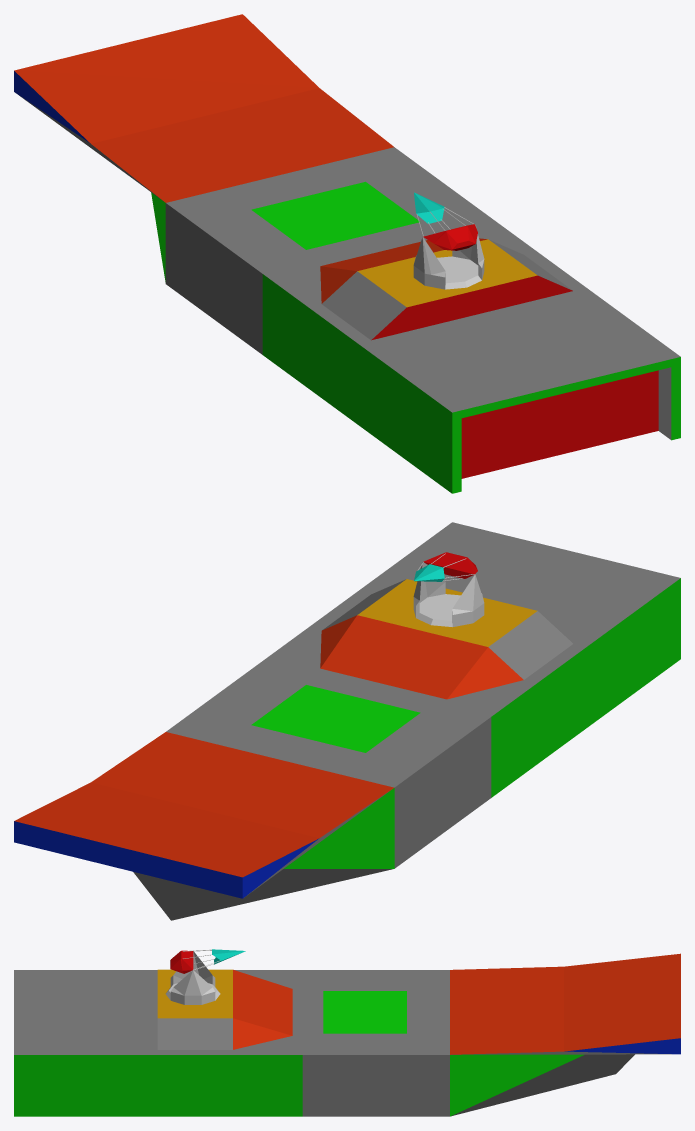
The model's file is carrier.obj.
The picture shows the model from 3 angles, top to bottom: view 1: azimuth 30°, elevation 25°; view 2: azimuth 150°, elevation 25°; view 3: azimuth 270°, elevation 25°; orthographic projection. The views are drawn at different scales.
Visible parts, largest first — view 1: Cube, Cube.001; view 2: Cube, Cube.001; view 3: Cube, Cube.001.
Part boxes in pixels (x1,y1,x2,y2): Cube: (14, 14, 680, 493); Cube.001: (414, 192, 477, 250); Cube: (14, 522, 680, 920); Cube.001: (414, 552, 477, 581); Cube: (14, 951, 680, 1116); Cube.001: (170, 949, 245, 973).
Size of the model in its own units: 3.07 by 2.07 by 10.18.
